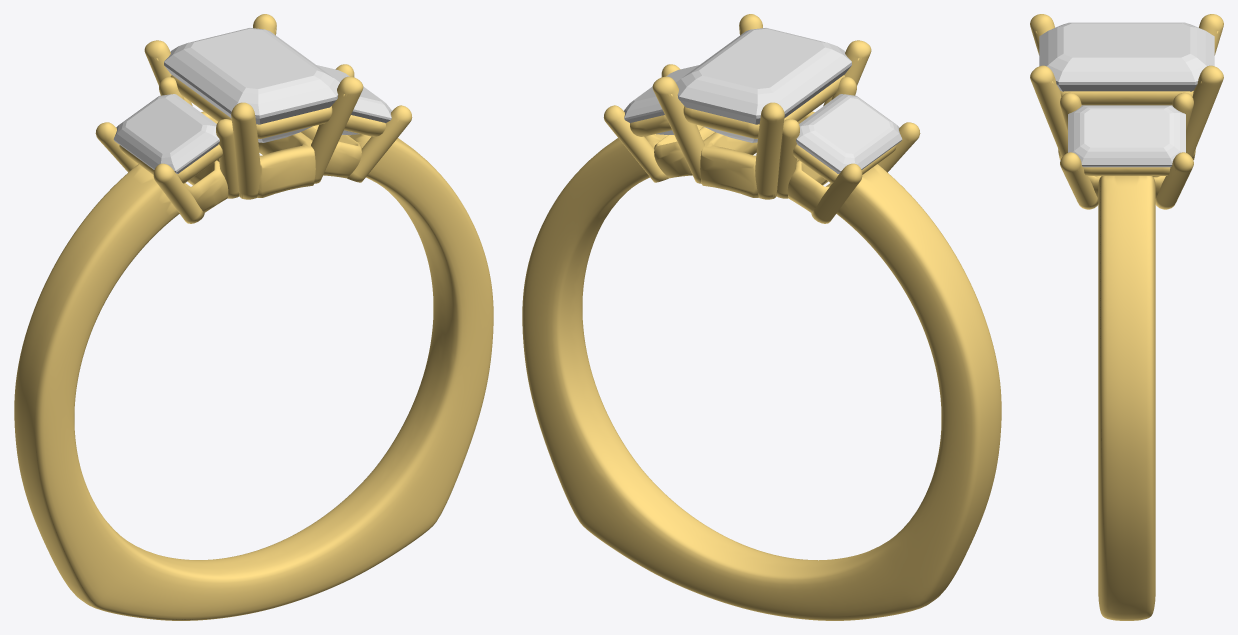
Rendered from diamond-emerald-yellowgold-4prong-europeanshank-3stone.glb.
The picture shows the model from 3 angles, left to right: view 1: azimuth 30°, elevation 25°; view 2: azimuth 150°, elevation 25°; view 3: azimuth 270°, elevation 25°; orthographic projection.
Parts seen in each view (by area): view 1: metal, stone, side, side.007; view 2: metal, stone, side, side.007; view 3: metal, stone, side.007.
Boxes of the visible parts, x1,y1,x2,y2 form: metal: (14, 14, 493, 620); stone: (164, 28, 339, 142); side: (113, 94, 219, 173); side.007: (316, 65, 391, 134); metal: (522, 14, 1001, 620); stone: (676, 28, 851, 142); side: (796, 94, 902, 173); side.007: (624, 65, 699, 134); metal: (1030, 14, 1223, 620); stone: (1039, 22, 1214, 91); side.007: (1068, 105, 1185, 167).
Size of the model in its own units: 20.11 by 22.75 by 7.4.
